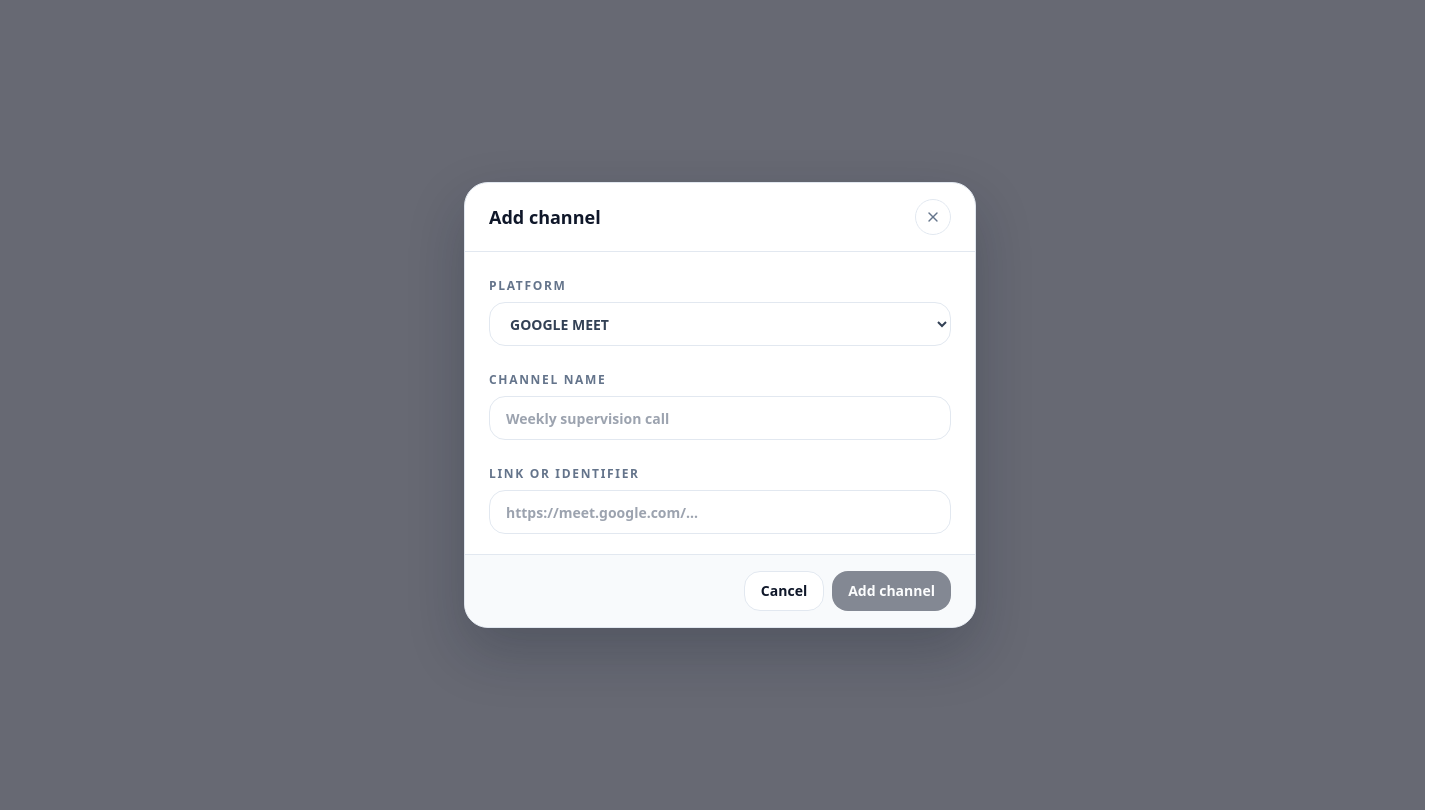
Scenario: MeetingChannelFormModal › disables submit until a valid http/https link is entered
expect the button "Add channel" is disabled: met, box [832,571,951,611]
Type "Weekly sync" into the field with placeholder "Weekly supervision call" at {"x": 720, "y": 418}, box [489,396,951,440]
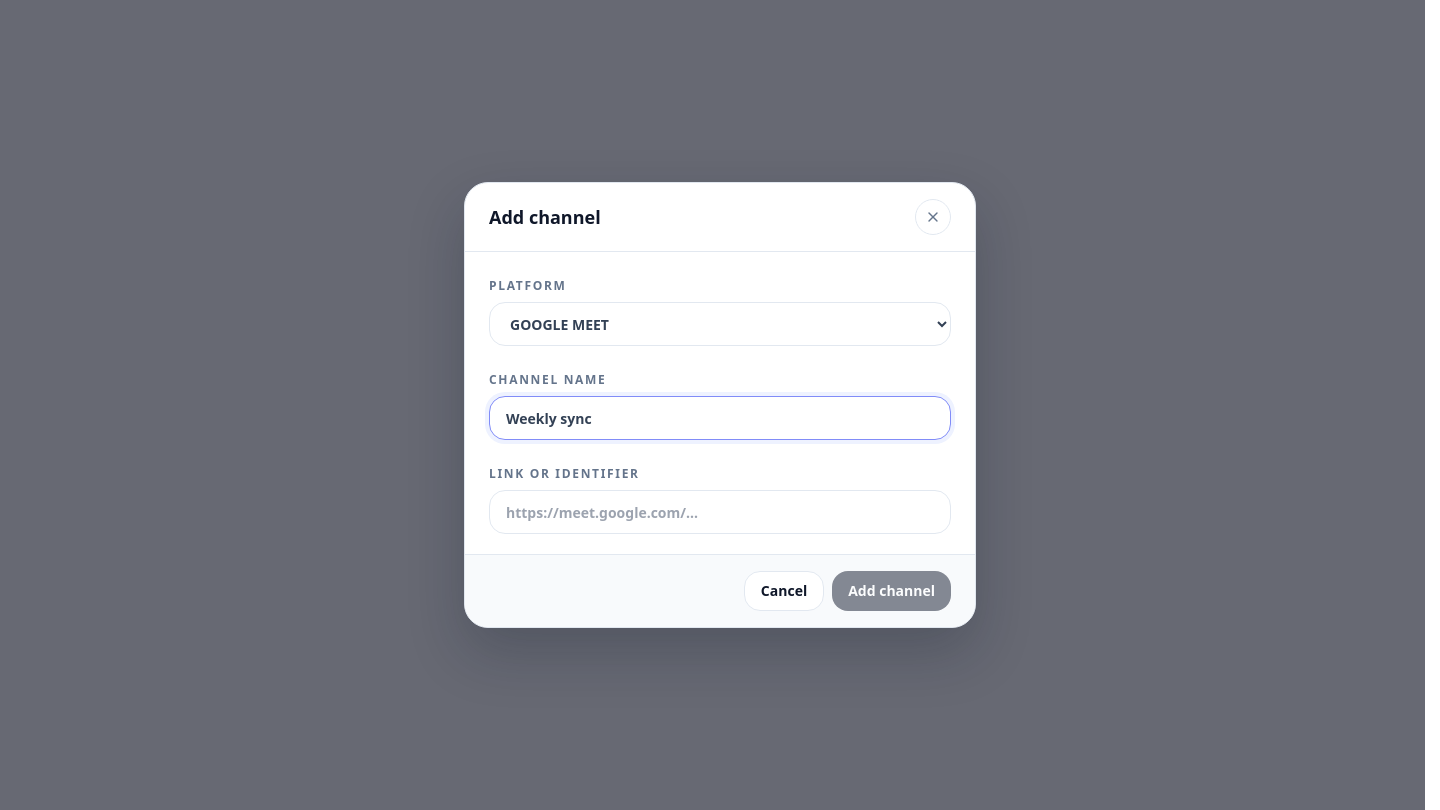
Type "meet.google.com/abc" into the field with placeholder "https://meet.google.com/..." at {"x": 720, "y": 512}, box [489,490,951,534]
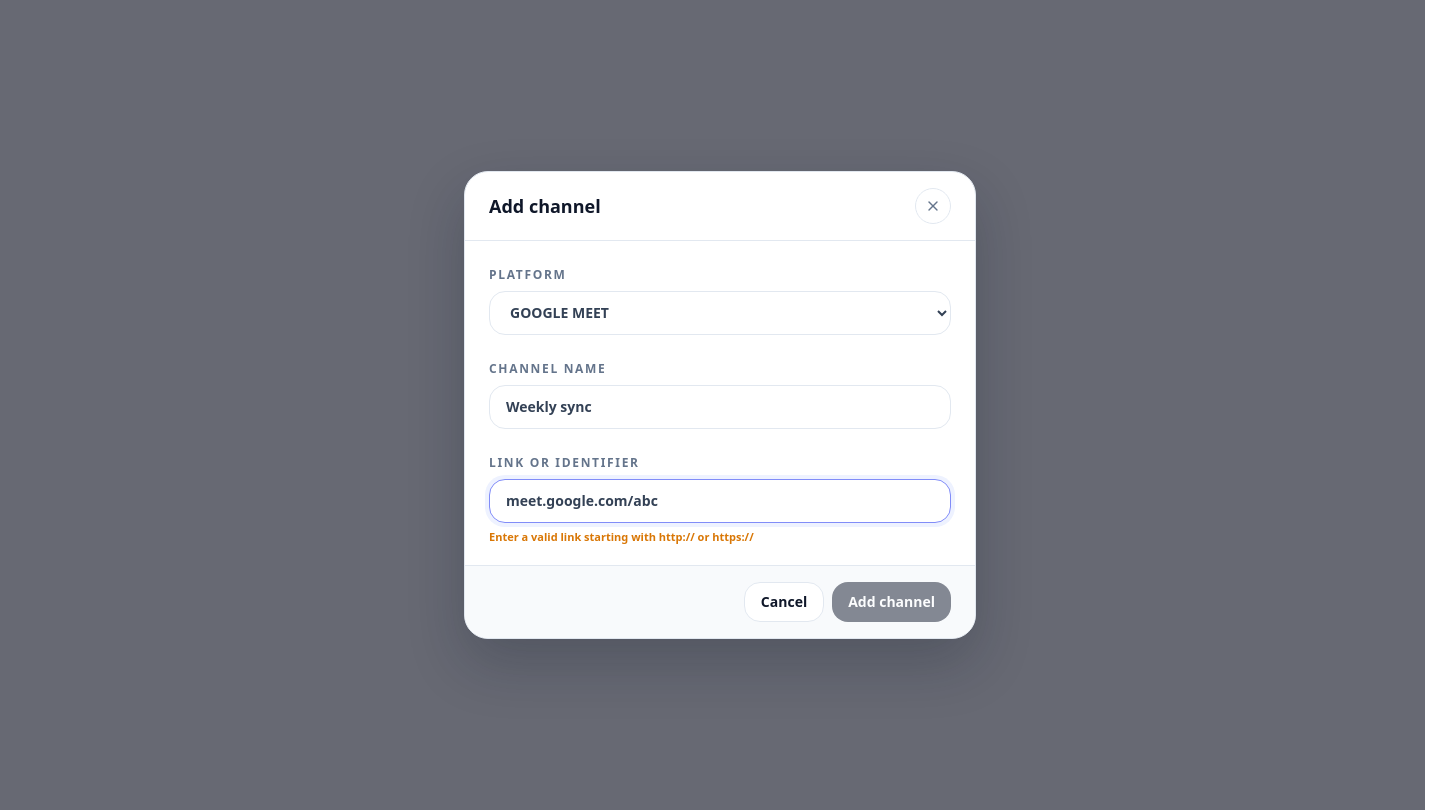
expect the button "Add channel" is disabled: met, box [832,582,951,622]
expect the text "Enter a valid link starting with http:// or https://" is shown: met, box [489,529,754,544]
Clear the field with placeholder "https://meet.google.com/..." below "Link or identifier" at {"x": 720, "y": 501}, box [489,479,951,523]
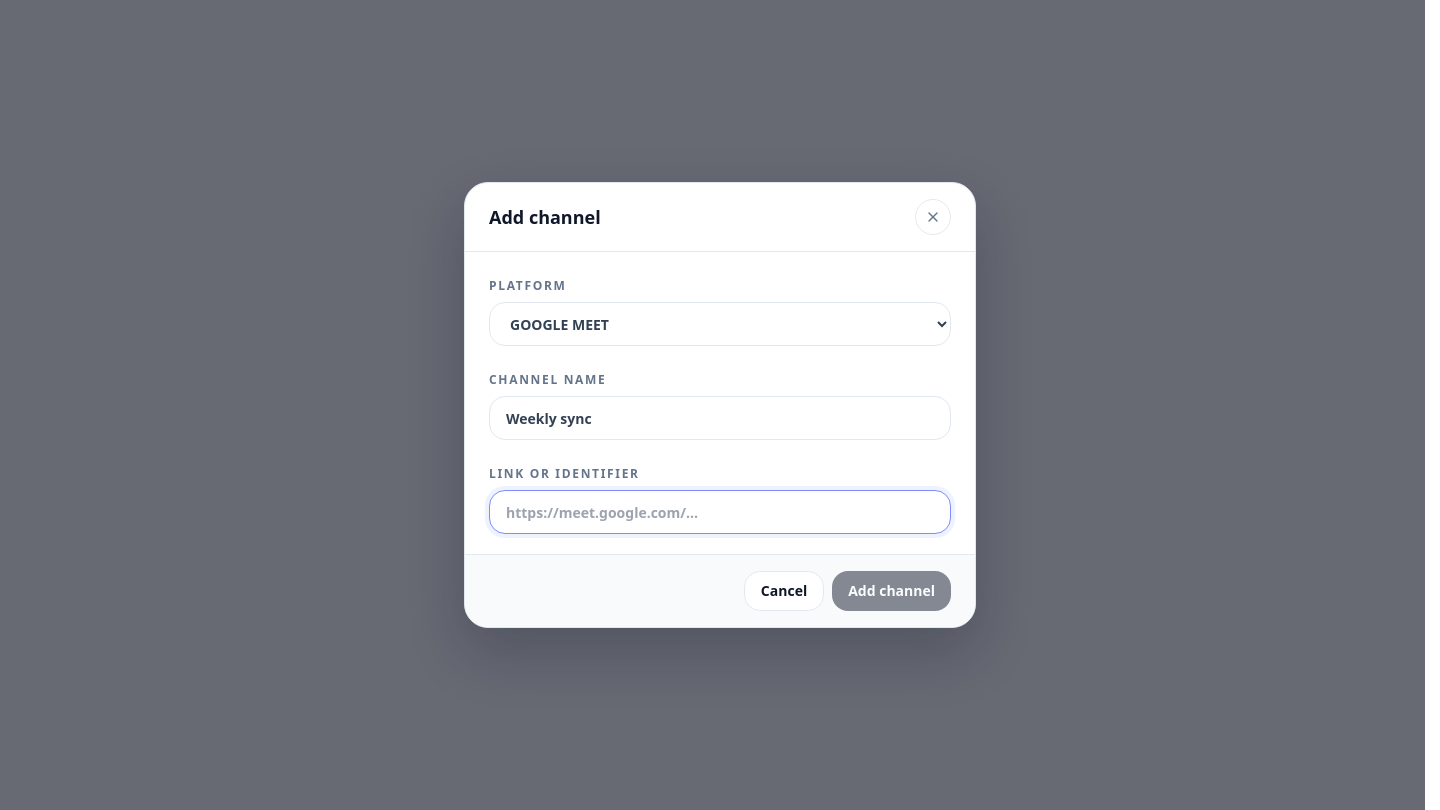
Type "https://meet.google.com/abc-defg-hij" into the field with placeholder "https://meet.google.com/..." at {"x": 720, "y": 512}, box [489,490,951,534]
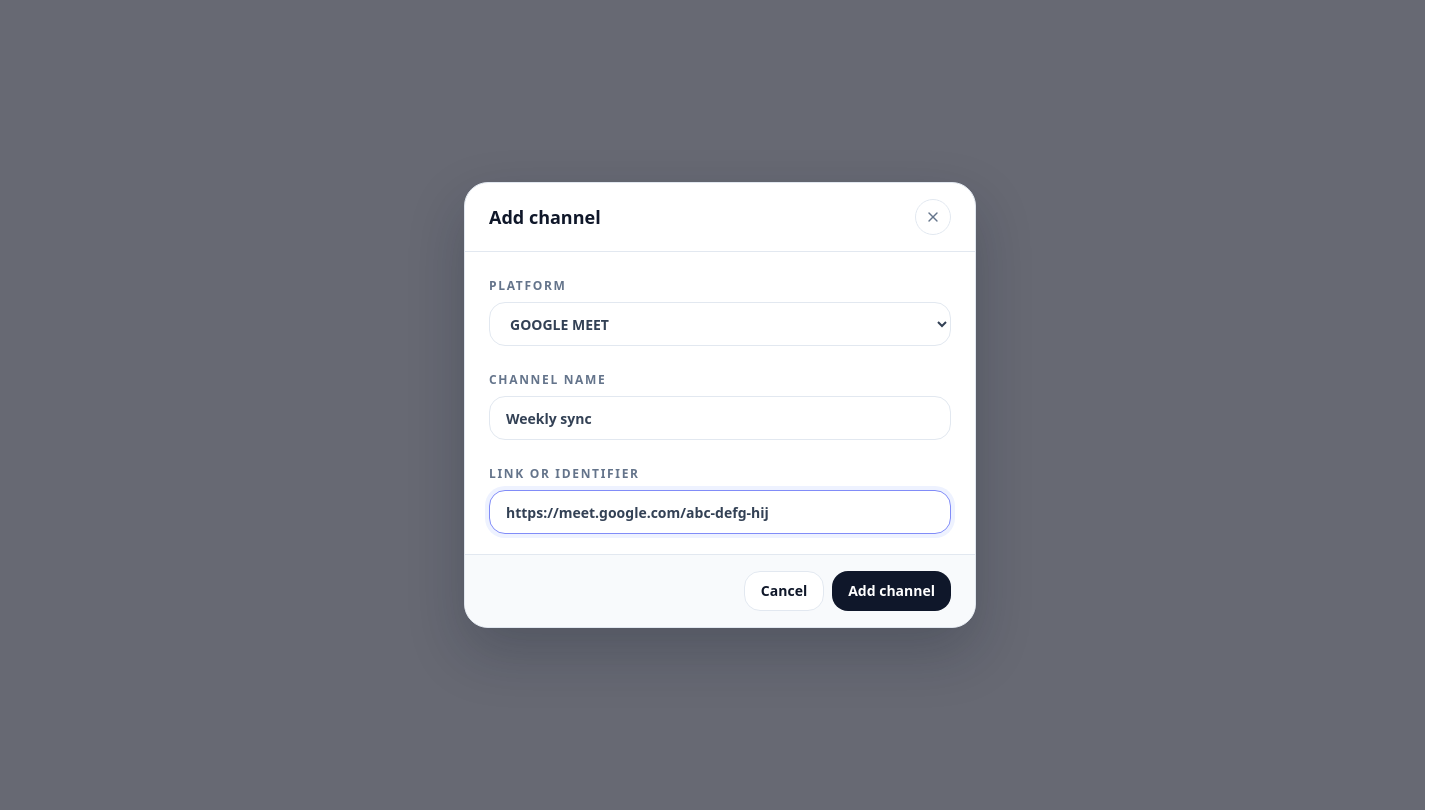
expect the text "Enter a valid link starting with http:// or https://" is not shown: met
expect the button "Add channel" is enabled: met, box [832,571,951,611]
